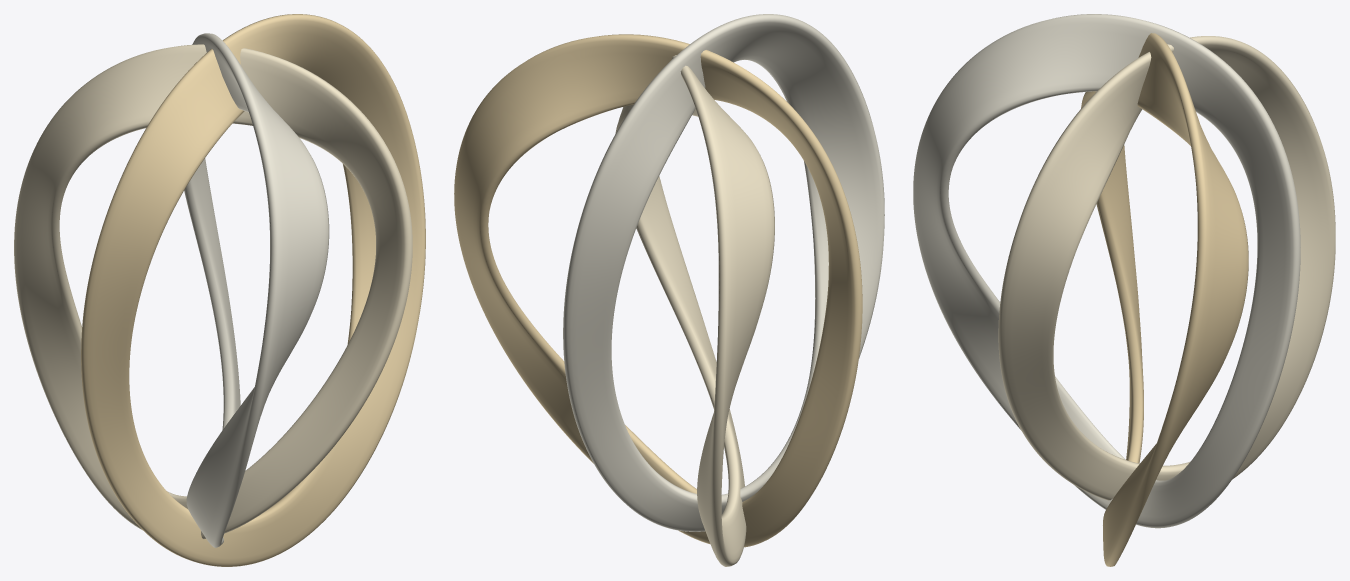
File: orbital-bloom.glb
The picture shows the model from 3 angles, left to right: view 1: azimuth 30°, elevation 25°; view 2: azimuth 150°, elevation 25°; view 3: azimuth 270°, elevation 25°; orthographic projection.
Parts seen in each view (by area): view 1: Lumen_Orbital_Bloom_Champagne, Lumen_Orbital_Bloom_Pale_Gold, Lumen_Orbital_Bloom_Warm_Platinum; view 2: Lumen_Orbital_Bloom_Champagne, Lumen_Orbital_Bloom_Warm_Platinum, Lumen_Orbital_Bloom_Pale_Gold; view 3: Lumen_Orbital_Bloom_Warm_Platinum, Lumen_Orbital_Bloom_Pale_Gold, Lumen_Orbital_Bloom_Champagne.
Boxes of the visible parts, left/top/right/bottom form: Lumen_Orbital_Bloom_Champagne: left=81, top=14, right=425, bottom=566; Lumen_Orbital_Bloom_Pale_Gold: left=14, top=44, right=412, bottom=538; Lumen_Orbital_Bloom_Warm_Platinum: left=184, top=33, right=329, bottom=547; Lumen_Orbital_Bloom_Champagne: left=454, top=34, right=862, bottom=547; Lumen_Orbital_Bloom_Warm_Platinum: left=563, top=14, right=884, bottom=531; Lumen_Orbital_Bloom_Pale_Gold: left=615, top=55, right=774, bottom=566; Lumen_Orbital_Bloom_Warm_Platinum: left=913, top=14, right=1300, bottom=528; Lumen_Orbital_Bloom_Pale_Gold: left=998, top=36, right=1335, bottom=500; Lumen_Orbital_Bloom_Champagne: left=1081, top=33, right=1248, bottom=566.
Bounding box in the file's own units: 3.6 × 4.8 × 3.47.
